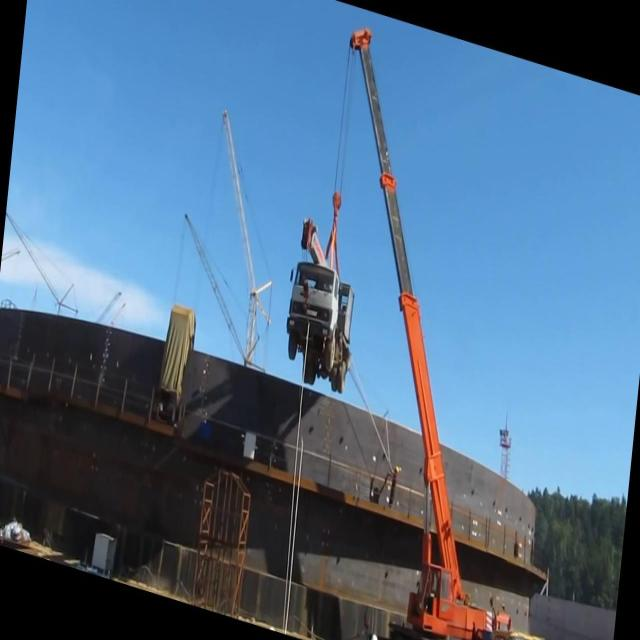crane: (288, 19, 617, 640)
